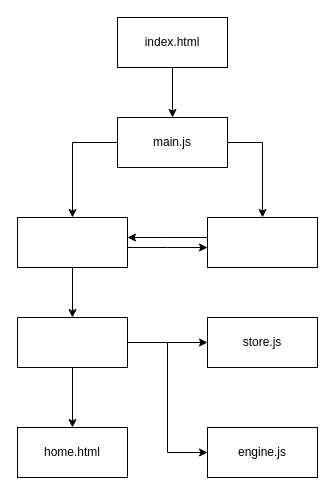
The diagram is 335 pixels wide and 495 high, and some of its shapes have lost their labels. Each missing label, with the box of its shape:
home.js: (16, 316, 128, 368)
router.js: (206, 216, 318, 268)
«interface» Component: (16, 216, 128, 268)
